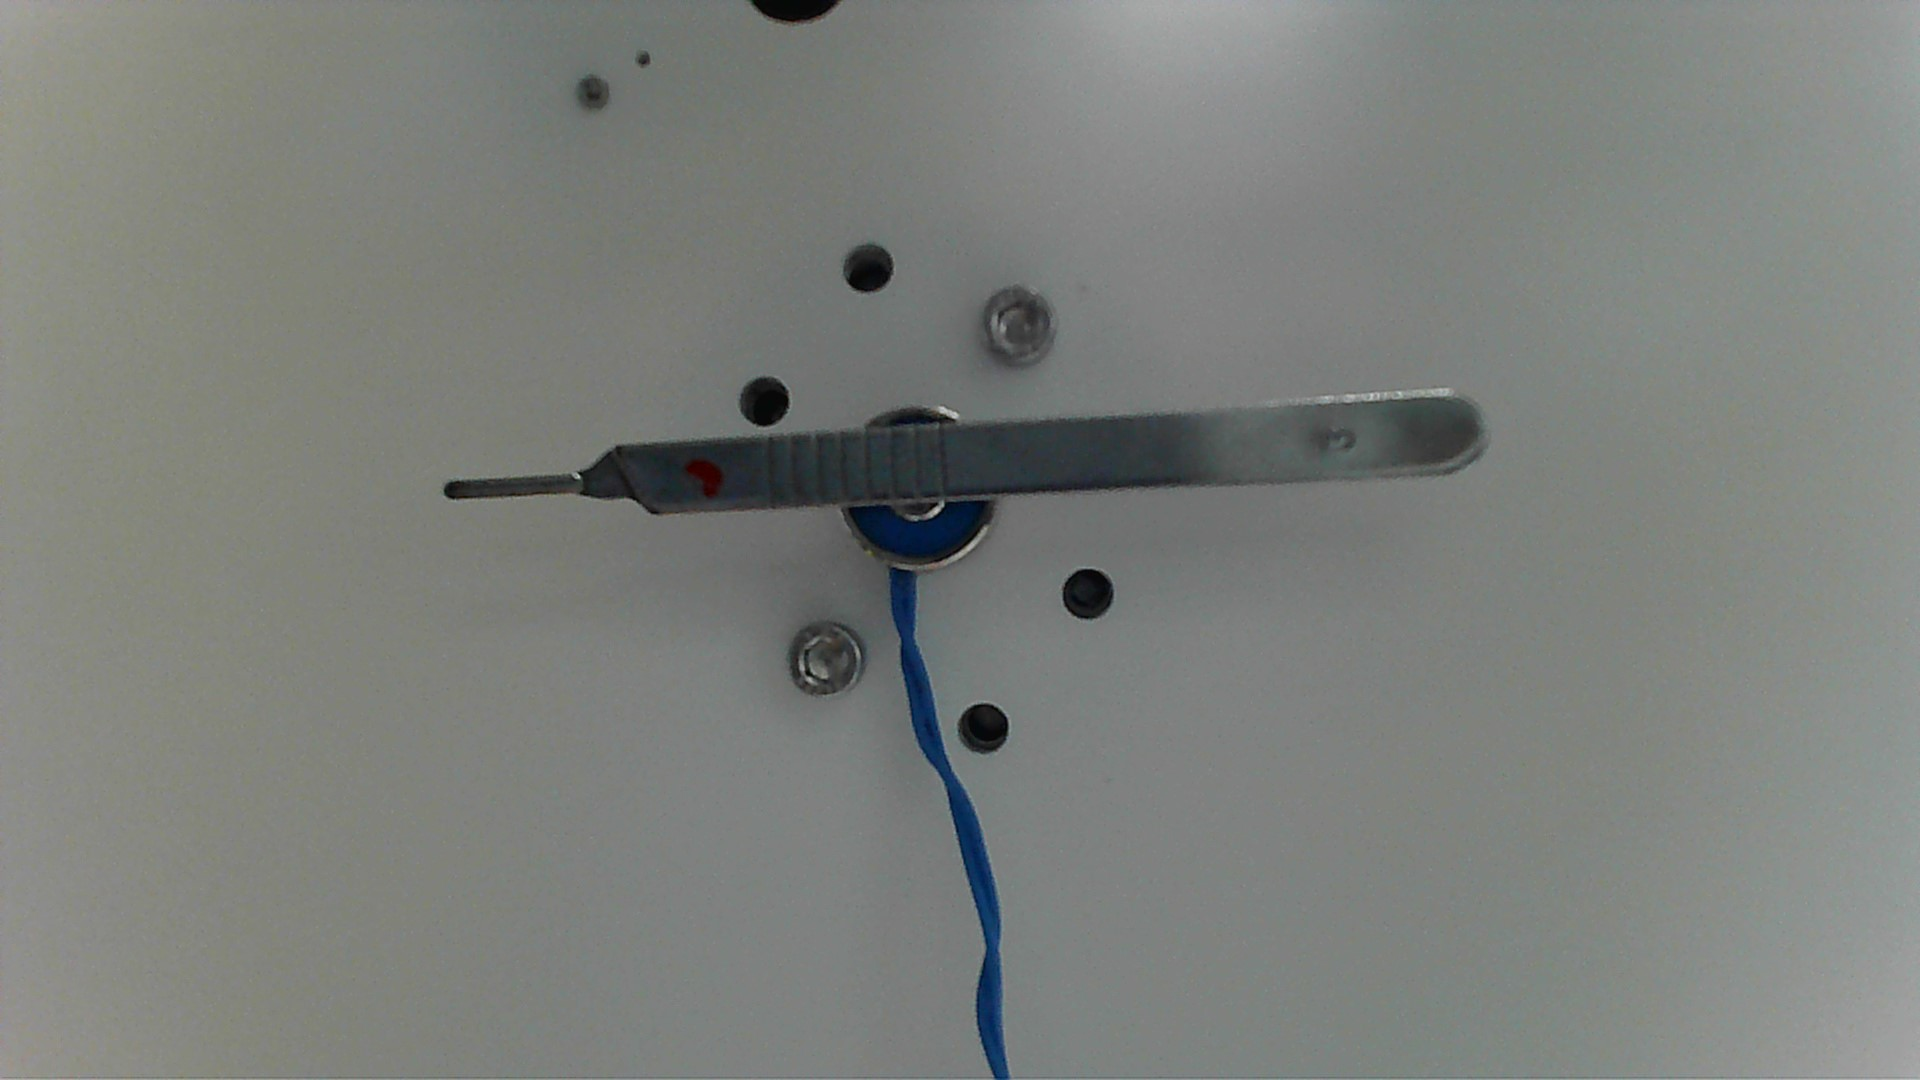Stain: (680, 452, 725, 502)
